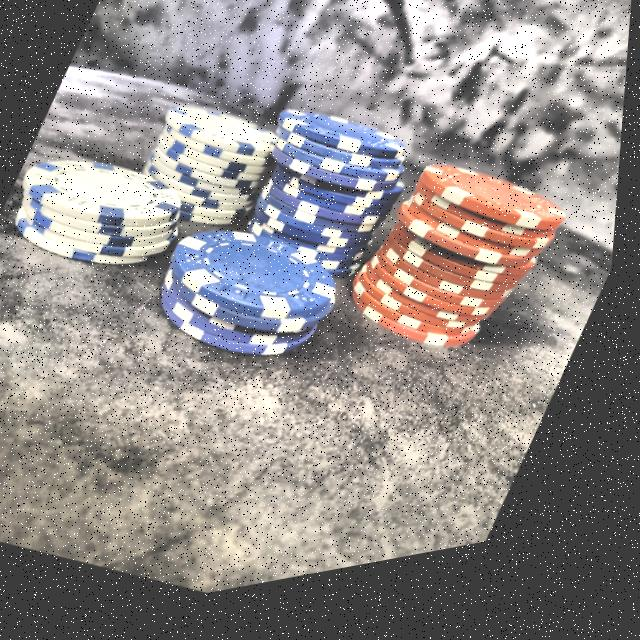Chip: (330, 116, 606, 426), (126, 171, 385, 430), (213, 62, 452, 328), (0, 99, 235, 324), (104, 64, 309, 296)
